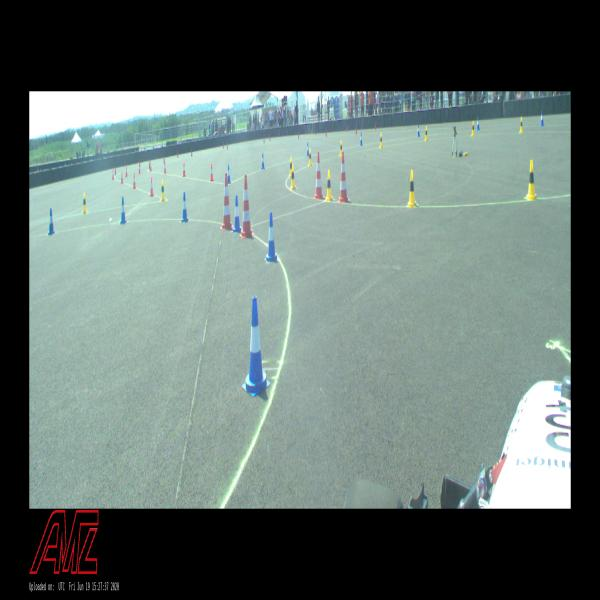blue_cone: (242, 296, 270, 397), (265, 212, 278, 263), (232, 195, 242, 234), (181, 192, 189, 222), (120, 197, 127, 224), (48, 208, 54, 235), (261, 152, 265, 169), (540, 111, 544, 126), (476, 116, 480, 131), (360, 132, 363, 146), (306, 142, 309, 156), (228, 164, 230, 183), (417, 124, 420, 136)
large_orange_cone: (240, 174, 254, 238), (221, 173, 234, 231), (337, 152, 350, 203), (313, 152, 325, 200)
orange_cone: (209, 164, 214, 182), (150, 177, 154, 196), (182, 162, 186, 177), (120, 170, 124, 183), (133, 173, 136, 189), (163, 162, 167, 173), (149, 160, 152, 171), (138, 163, 141, 174), (112, 169, 114, 179), (125, 166, 127, 176)
yellow_cone: (526, 160, 537, 200), (408, 169, 416, 208), (325, 169, 333, 202), (290, 164, 296, 190), (82, 192, 87, 214), (160, 180, 165, 201), (308, 147, 312, 167), (519, 116, 523, 133), (289, 155, 292, 177), (379, 132, 383, 148), (424, 126, 428, 141), (471, 121, 475, 136), (339, 140, 342, 155)
